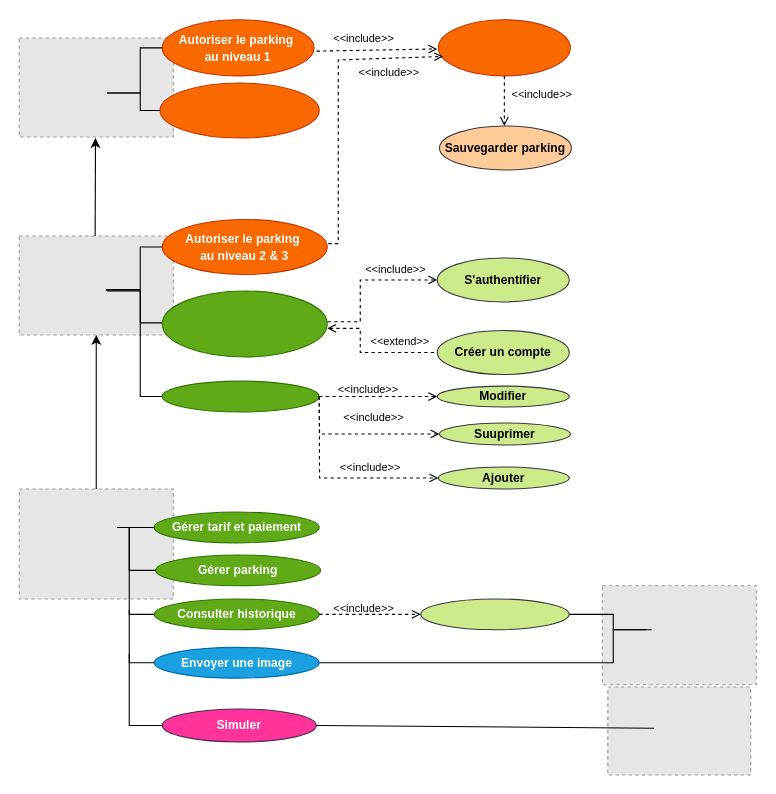
Some shapes in this 776 by 794 pixel diagram are drawn without their labels. Grey dashed boxes stand in for pictures. Here are the shapes that lost their labels. From the top down, the centre of each, then its label:
[503,47]: Afficher état parking
[239,110]: Payer en fonction du nombre d'heure
[244,323]: Réserver une place sur le site web pour le niveau 2 & 3
[240,396]: Gérer réservation
[494,614]: Récupérer données
